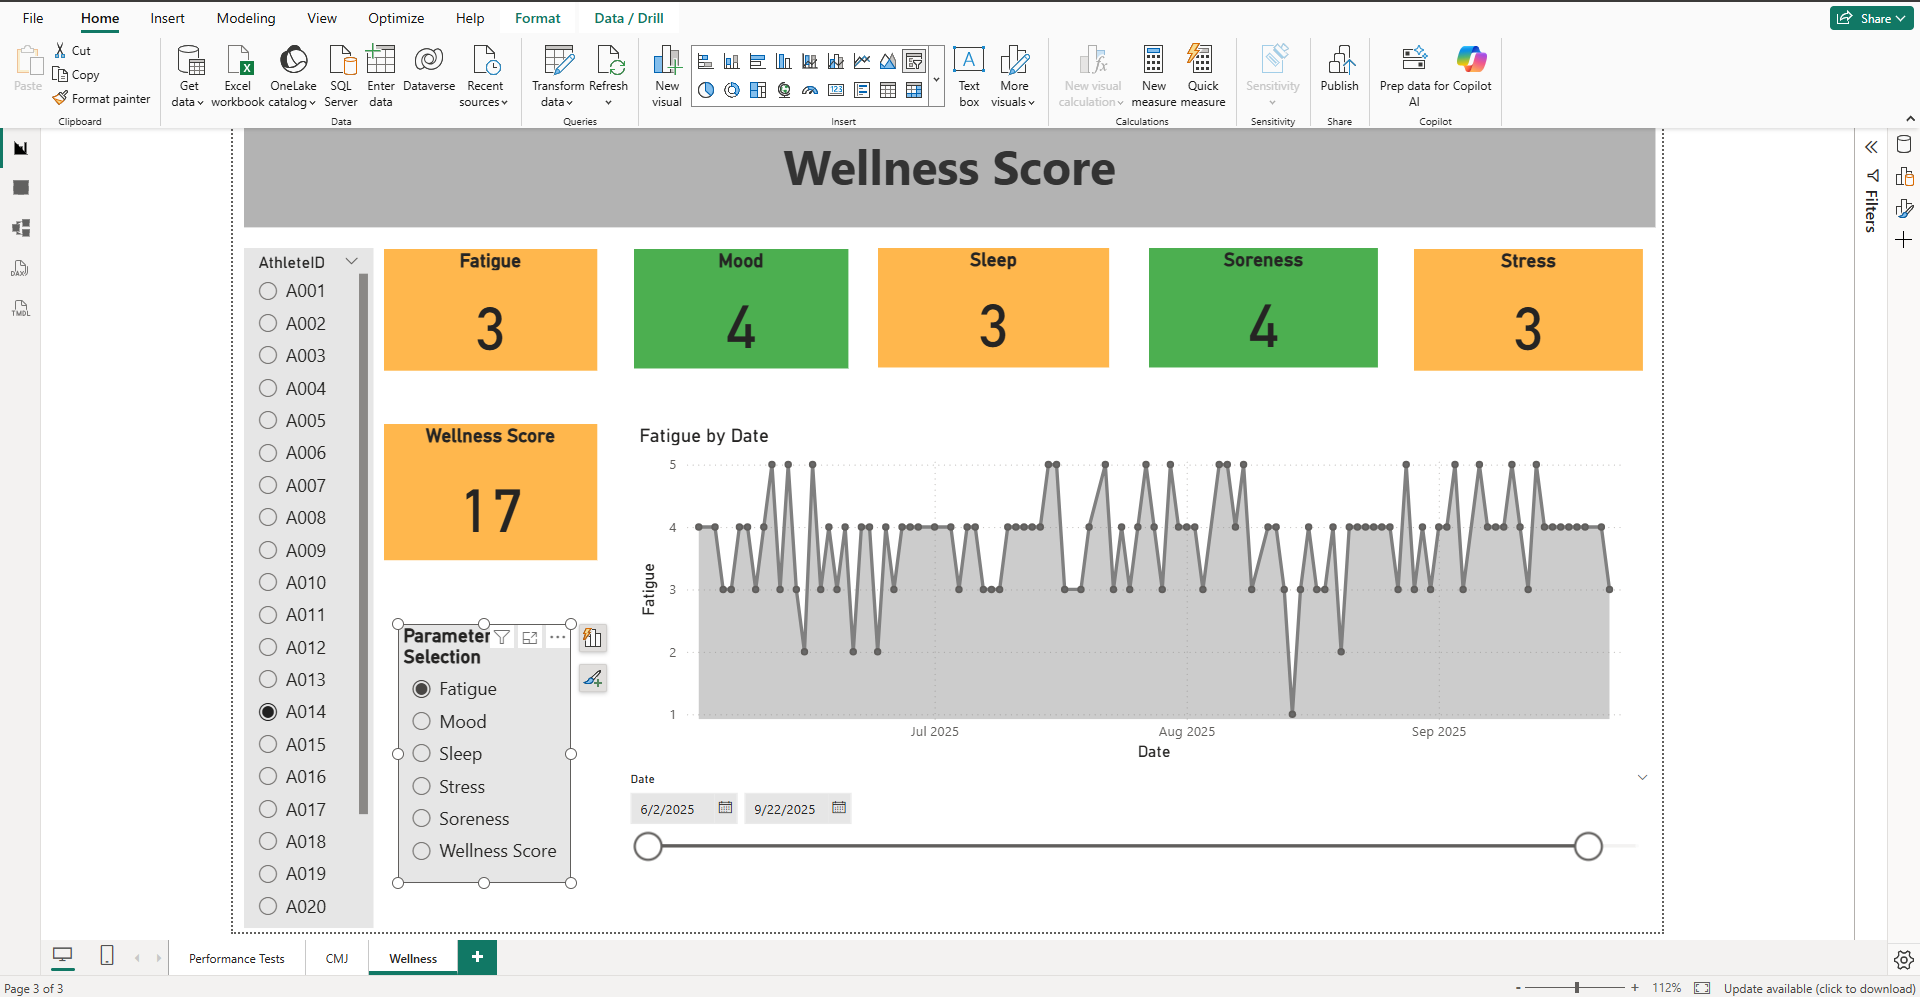

This screenshot's page, from the dashboard's own definition file:
{"tool":"powerbi","page":{"name":"Wellness","canvas":[1280,720],"ordinal":2},"visuals":[{"type":"textbox","box":[9.9,0,1263.6,88.7],"z":0},{"type":"areaChart","fields":{"Y":["Athlete.WellnessTotal Today"],"Category":["Wellness_Daily.Date"]},"box":[359.1,265.1,903.6,306.3],"z":1000},{"type":"slicer","fields":{"Values":["Wellness_Daily.AthleteID"]},"box":[9.9,107.5,115.5,609],"z":2000},{"type":"card","title":"Fatigue","fields":{"Values":["Athlete.Fatigue Today"]},"box":[135.2,108.4,190.7,109.3],"z":3000},{"type":"card","title":"Mood","fields":{"Values":["Athlete.Mood Today"]},"box":[359.1,108.4,191.6,106.6],"z":4000},{"type":"card","title":"Sleep","fields":{"Values":["Athlete.Sleep Today"]},"box":[577.6,107.5,206.9,106.6],"z":5000},{"type":"card","title":"Soreness","fields":{"Values":["Athlete.Soreness Today"]},"box":[820.3,107.5,205.1,106.6],"z":6000},{"type":"slicer","fields":{"Values":["Wellness_Daily.Date"]},"box":[343,571.3,936.7,117.3],"z":7000},{"type":"card","title":"Wellness Score","fields":{"Values":["Athlete.WellnessTotal Today"]},"box":[135.2,265.1,190.7,121.8],"z":8000},{"type":"card","title":"Stress","fields":{"Values":["Athlete.Stress Today"]},"box":[1057.6,108.4,205.1,109.3],"z":9000},{"type":"slicer","title":"Parameters Selection","fields":{"Values":["Parameter 2.Parameter"]},"box":[148.2,444.5,154.2,231.8],"z":10000}]}

Visuals, with their boxes on the page's 1280x720 design canvas (x1, y1, x2, y2). These are canvas units, not pixel positions in the 1920x997 screenshot, which may show the page scaled, cropped or inside an application window:
textbox: (10,0,1274,89)
areaChart - Athlete.WellnessTotal Today x Wellness_Daily.Date: (359,265,1263,571)
slicer - Wellness_Daily.AthleteID: (10,108,125,716)
"Fatigue" card: (135,108,326,218)
"Mood" card: (359,108,551,215)
"Sleep" card: (578,108,784,214)
"Soreness" card: (820,108,1025,214)
slicer - Wellness_Daily.Date: (343,571,1280,689)
"Wellness Score" card: (135,265,326,387)
"Stress" card: (1058,108,1263,218)
"Parameters Selection" slicer: (148,444,302,676)
